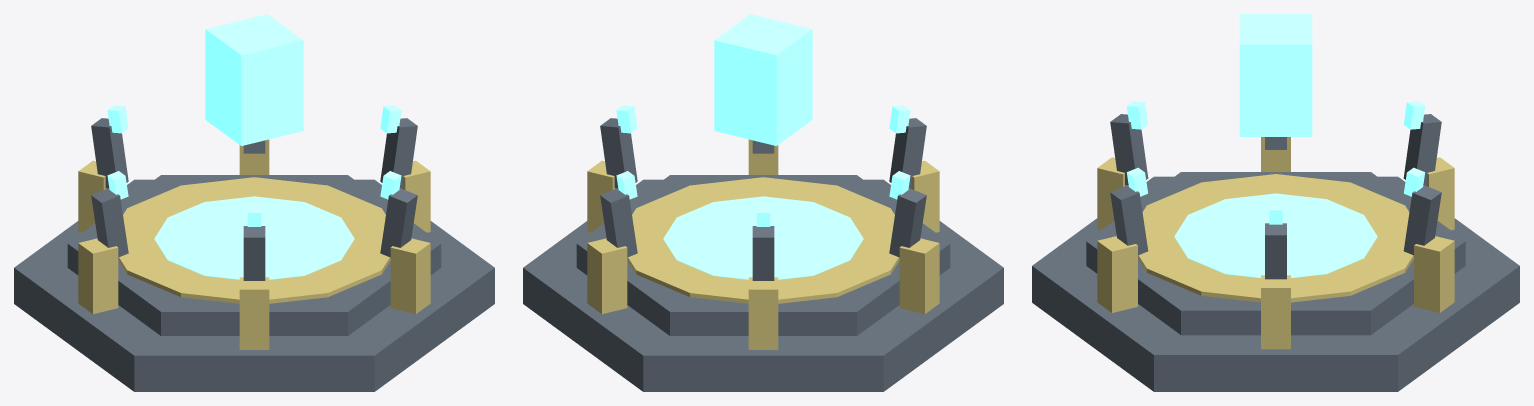
The model's file is sm_revival_station.glb.
3 views of the same model, side by side, from view 1: azimuth 30°, elevation 25°; view 2: azimuth 150°, elevation 25°; view 3: azimuth 270°, elevation 25° (orthographic).
Parts seen in each view (by area): view 1: RevivalStation_Base, RevivalStation_Core; view 2: RevivalStation_Base, RevivalStation_Core; view 3: RevivalStation_Base, RevivalStation_Core.
Part boxes in pixels (x1,y1,x2,y2): RevivalStation_Base: [14, 105, 494, 391]; RevivalStation_Core: [205, 14, 303, 145]; RevivalStation_Base: [523, 105, 1003, 391]; RevivalStation_Core: [714, 14, 812, 145]; RevivalStation_Base: [1032, 101, 1519, 391]; RevivalStation_Core: [1239, 14, 1312, 136].
Size of what is drawn, in the model's own units: 3.12 by 2.23 by 3.6.
